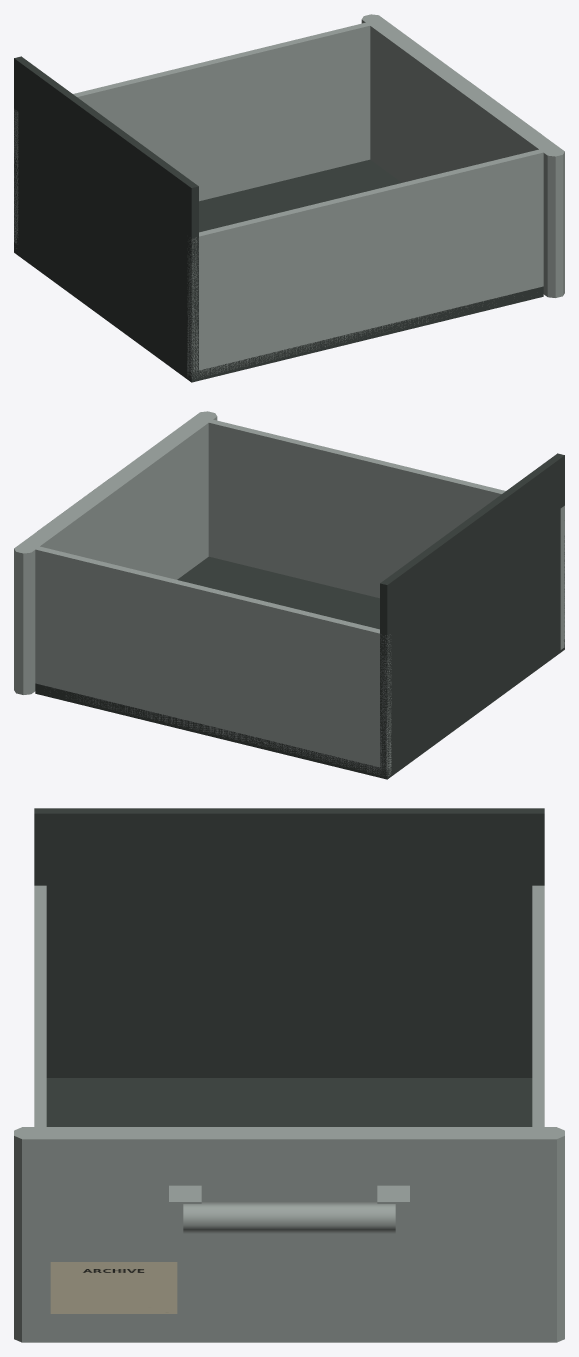
Rendered from SM_ArchiveProps_FireDrawer_LOD2.glb.
3 views of the same model, one above another, from view 1: azimuth 30°, elevation 25°; view 2: azimuth 150°, elevation 25°; view 3: azimuth 270°, elevation 25° (orthographic). The views are drawn at different scales.
Parts seen in each view (by area): view 1: SM_ArchiveProps_FireDrawer_LOD2; view 2: SM_ArchiveProps_FireDrawer_LOD2; view 3: SM_ArchiveProps_FireDrawer_LOD2.
Part boxes in pixels (bbox=[...]): SM_ArchiveProps_FireDrawer_LOD2: bbox=[14, 14, 564, 382]; SM_ArchiveProps_FireDrawer_LOD2: bbox=[14, 411, 564, 779]; SM_ArchiveProps_FireDrawer_LOD2: bbox=[14, 808, 564, 1342].
Size of the model in its own units: 0.331 by 0.151 by 0.27.
Materials: 3 (1 with a texture image).
